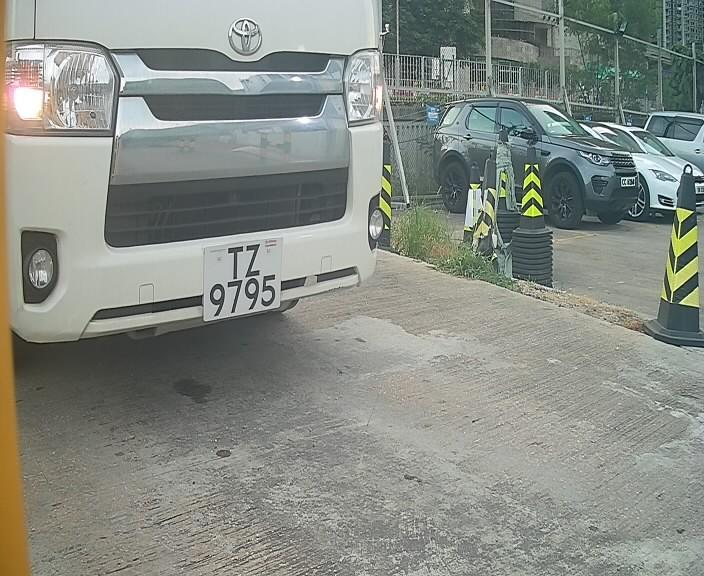privatecar: (13, 1, 409, 376)
